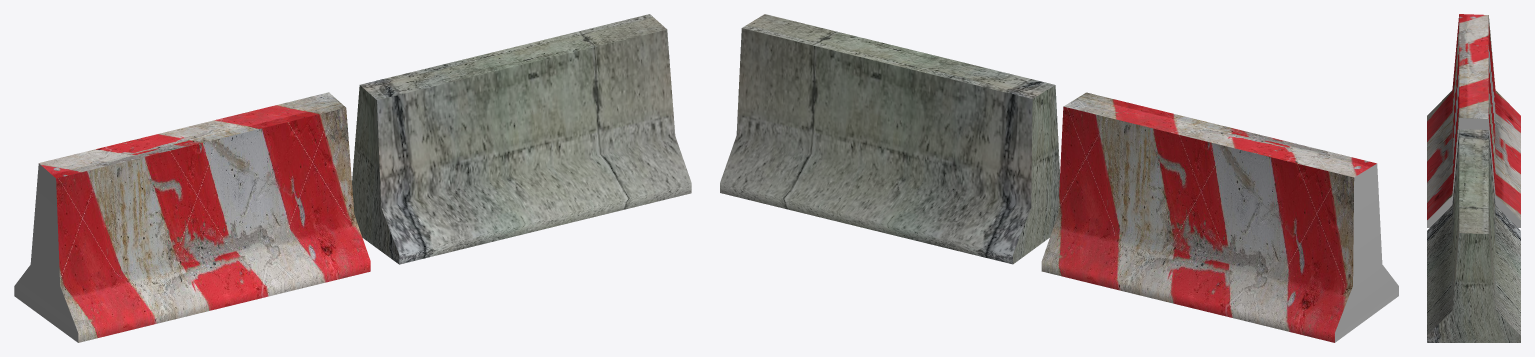
File: RoadBlock.fbx
3 views of the same model, side by side, from view 1: azimuth 30°, elevation 25°; view 2: azimuth 150°, elevation 25°; view 3: azimuth 270°, elevation 25° (orthographic). The views are drawn at different scales.
Visible parts, largest first — view 1: pCube8, pCube16; view 2: pCube8, pCube16; view 3: pCube16, pCube8.
Boxes of the visible parts, x1,y1,x2,y2 form: pCube8: (14,92,370,342); pCube16: (352,14,691,264); pCube8: (1041,92,1398,342); pCube16: (720,14,1059,264); pCube16: (1427,129,1520,342); pCube8: (1427,14,1520,227).
Bounding box in the file's own units: 16.1 × 3.71 × 2.9.
